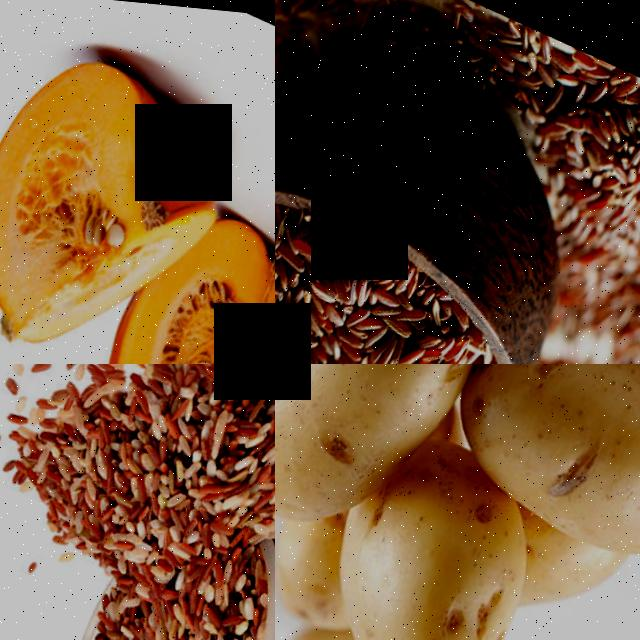potato: (288, 430, 564, 640), (421, 364, 640, 584), (275, 364, 506, 558)
pumpkin: (0, 18, 225, 364), (78, 155, 275, 364)
red rice: (0, 364, 275, 629), (73, 510, 275, 640), (536, 46, 640, 276), (275, 161, 386, 364), (322, 255, 494, 364)
